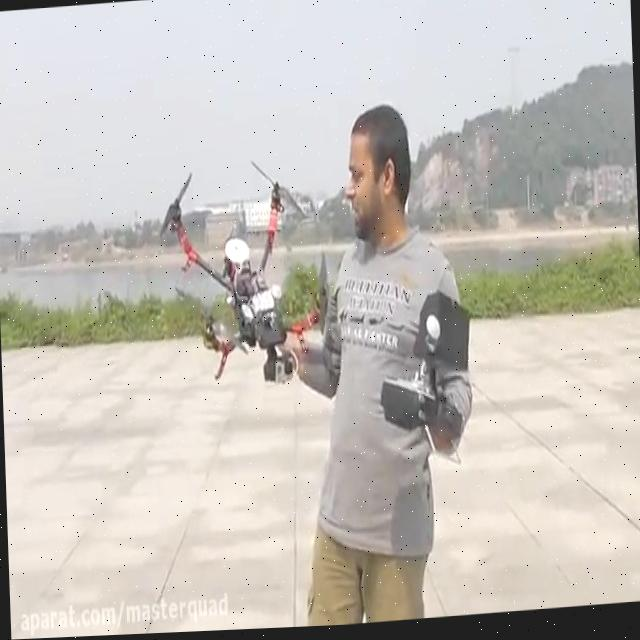drone: (152, 152, 332, 398)
